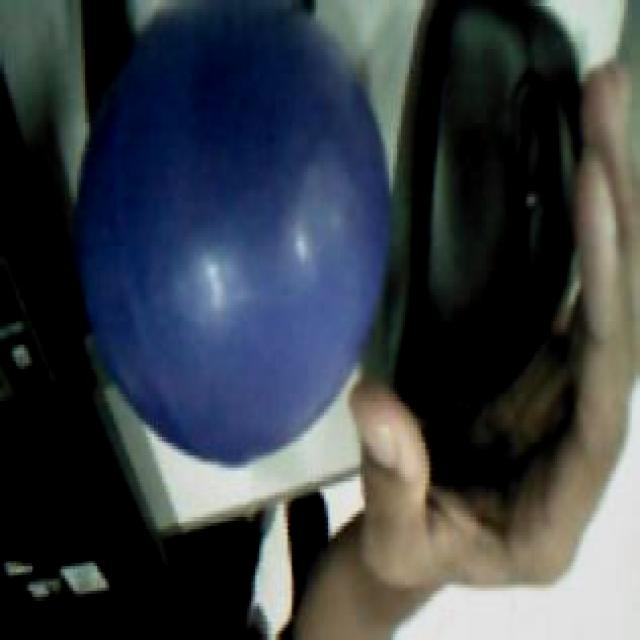BallPurple: (77, 2, 391, 468)
